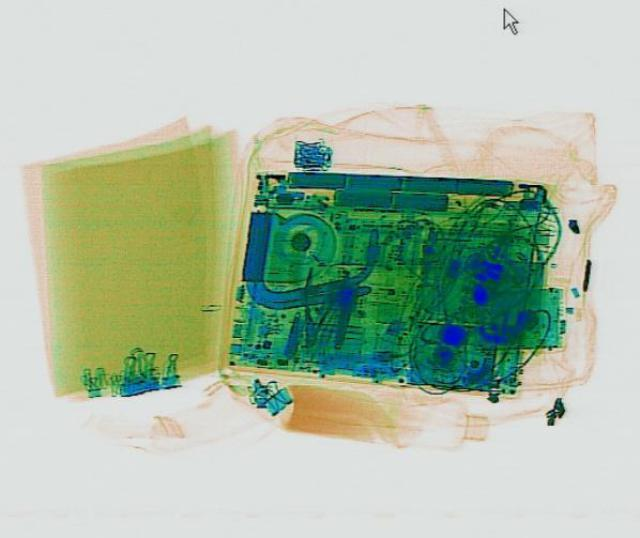Pliers: (288, 263, 349, 345)
